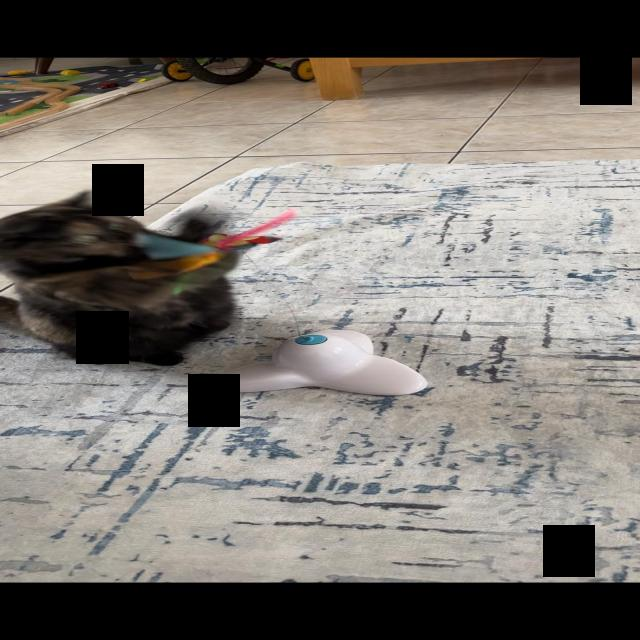authorized: (0, 189, 244, 366)
